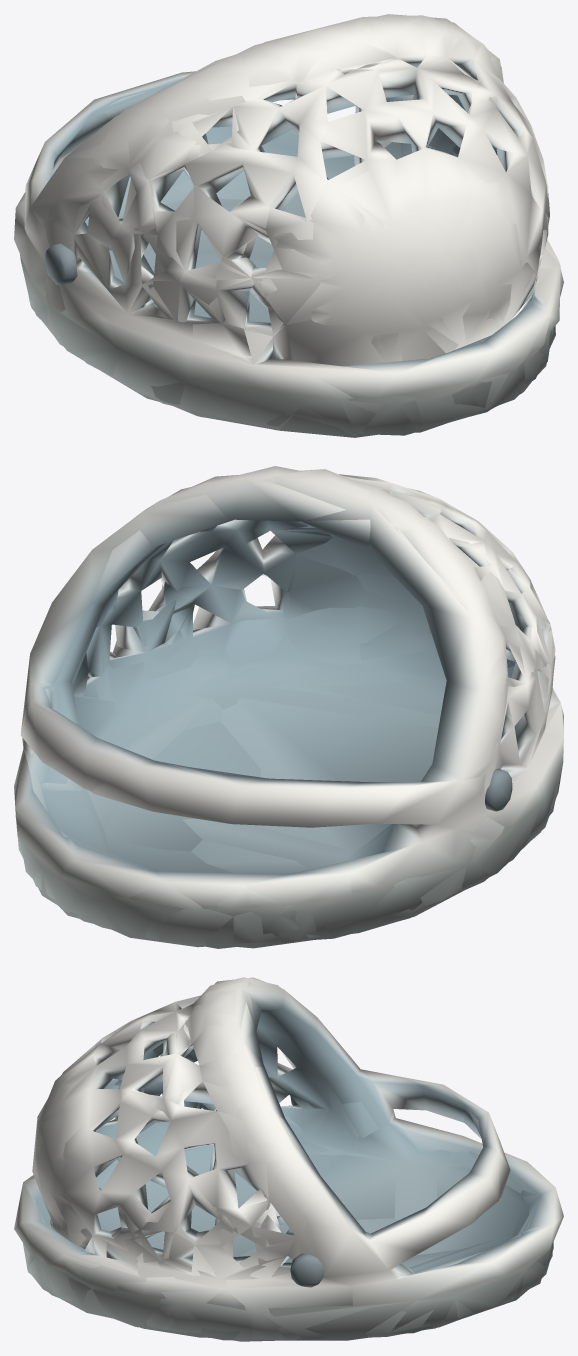
Rendered from deptoong.glb.
3 views of the same model, one above another, from view 1: azimuth 30°, elevation 25°; view 2: azimuth 150°, elevation 25°; view 3: azimuth 270°, elevation 25° (orthographic). The views are drawn at different scales.
Visible parts, largest first — view 1: Dep_To_Ong__FL, Dep_To_Ong__BR, Dep_To_Ong__FR, Dep_To_Ong__BL, Nut_Tan__BR; view 2: Dep_To_Ong__BR, Dep_To_Ong__BL, Dep_To_Ong__FL, Dep_To_Ong__FR, Nut_Tan__BR; view 3: Dep_To_Ong__BL, Dep_To_Ong__FR, Dep_To_Ong__BR, Dep_To_Ong__FL, Nut_Tan__BL.
Boxes of the visible parts, <box> form: Dep_To_Ong__FL: <box>16,42,559,436</box>; Dep_To_Ong__BR: <box>14,16,549,433</box>; Dep_To_Ong__FR: <box>16,15,560,435</box>; Dep_To_Ong__BL: <box>22,14,563,437</box>; Nut_Tan__BR: <box>45,243,72,284</box>; Dep_To_Ong__BR: <box>18,469,562,947</box>; Dep_To_Ong__BL: <box>14,469,559,948</box>; Dep_To_Ong__FL: <box>16,483,563,948</box>; Dep_To_Ong__FR: <box>16,466,561,948</box>; Nut_Tan__BR: <box>485,768,512,811</box>; Dep_To_Ong__BL: <box>23,978,563,1340</box>; Dep_To_Ong__FR: <box>14,983,561,1340</box>; Dep_To_Ong__BR: <box>17,977,554,1339</box>; Dep_To_Ong__FL: <box>14,977,554,1341</box>; Nut_Tan__BL: <box>290,1096,323,1287</box>.
Bounding box in the file's own units: 0.0876 × 0.0579 × 0.1127.
